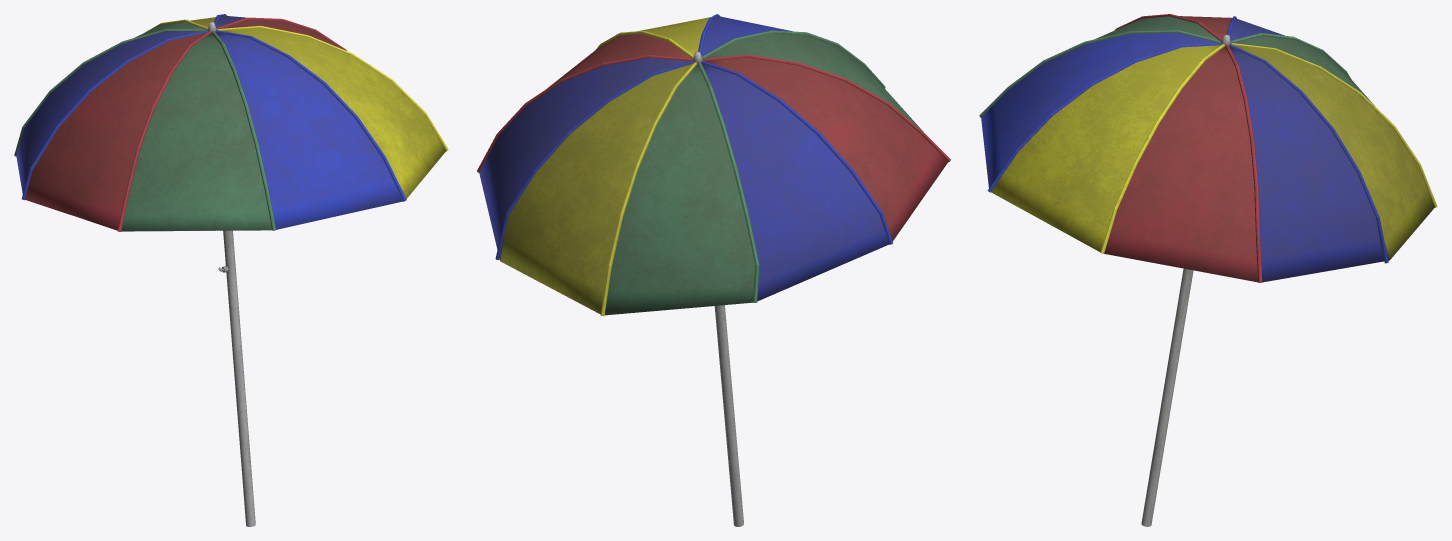
File: umbrella_beach1.glb
3 renders of one model, left to right at view 1: azimuth 30°, elevation 25°; view 2: azimuth 150°, elevation 25°; view 3: azimuth 270°, elevation 25°, orthographic. The views are drawn at different scales.
Visible parts, largest first — view 1: Sombrilla_w; view 2: Sombrilla_w; view 3: Sombrilla_w.
Part boxes in pixels (x1,y1,x2,y2): Sombrilla_w: (14, 14, 448, 526); Sombrilla_w: (477, 14, 950, 526); Sombrilla_w: (979, 14, 1437, 526).
Bounding box in the file's own units: 1.96 × 2.35 × 1.99.
Materials: 1 (1 with a texture image).
